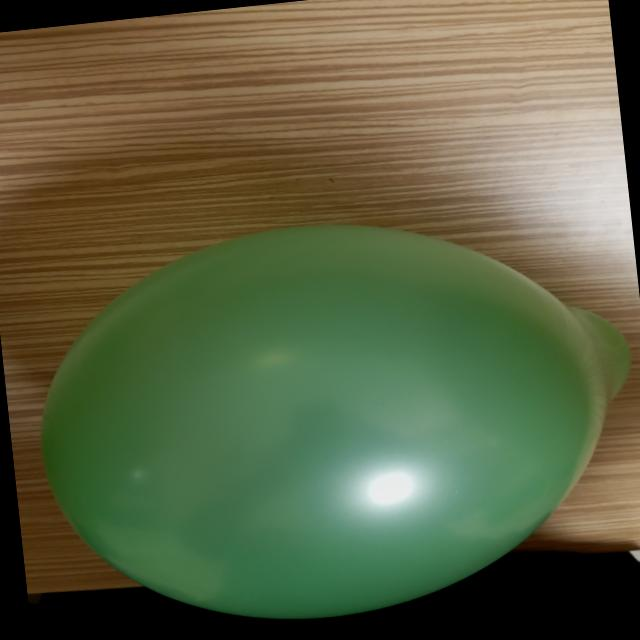balloon: (42, 225, 629, 618)
